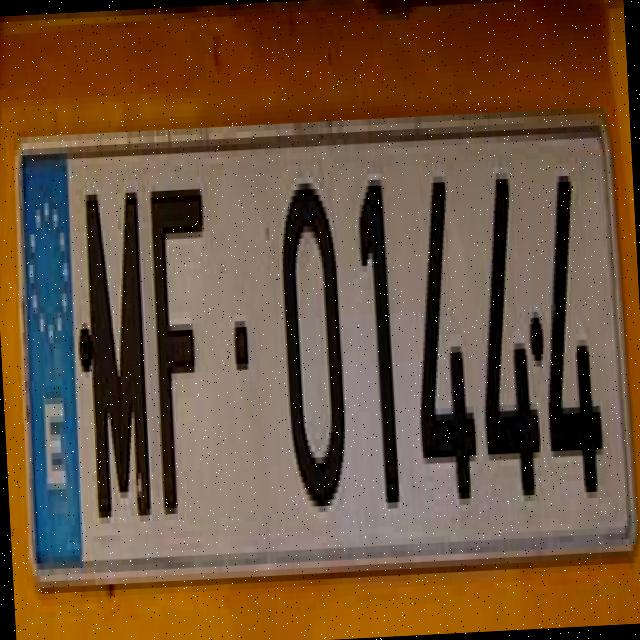EU: (17, 132, 630, 561)
Espagne: (15, 145, 84, 562)
